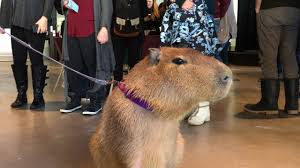capivara: (88, 45, 234, 168)
